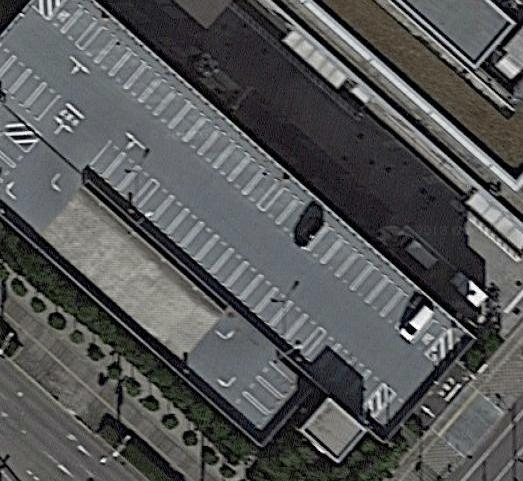parkingspot: (77, 16, 288, 212), (262, 178, 457, 358), (135, 178, 326, 355), (301, 329, 388, 414), (0, 38, 64, 130), (226, 359, 298, 434), (87, 135, 157, 206), (45, 0, 109, 49), (366, 389, 413, 440), (0, 127, 31, 189)
